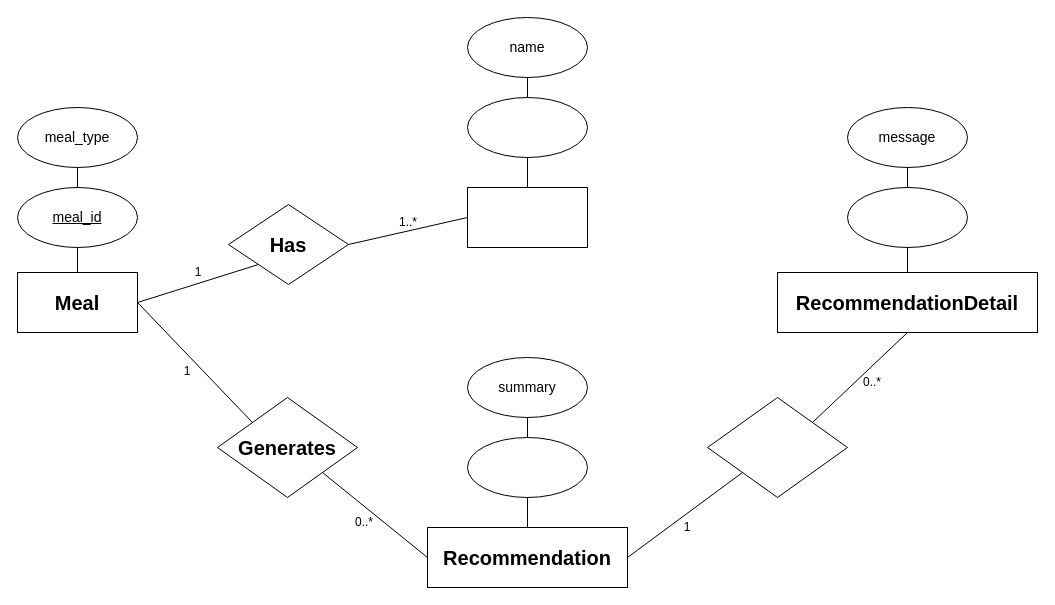
Some shapes in this 1055 by 605 pixel diagram are drawn without their labels. Here are the shapes that lost their labels. From the top down, the centre of each, then its label:
the point at 527,127: ingredient_id
the point at 527,217: Ingredient
the point at 907,217: detail_id
the point at 527,467: rec_id
the point at 777,447: HasDetail
